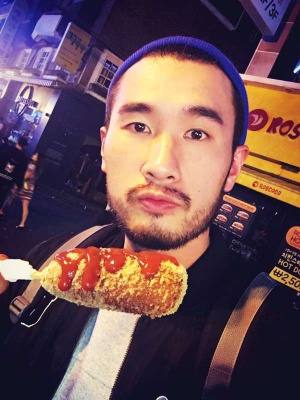male: (99, 24, 242, 260)
